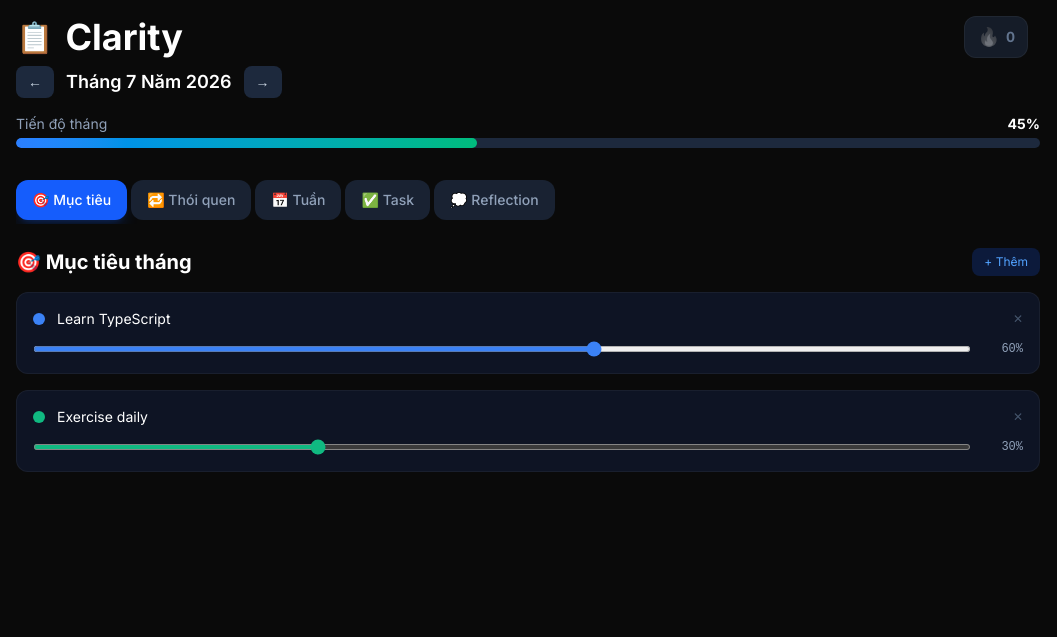
it: ClarityClient › switches to daily tasks tab
This screenshot has width=1057, height=637.
Check: the heading "Clarity" is shown, box [65, 17, 183, 57]
Click the text "✅ Task" at (388, 200), box [362, 191, 414, 208]
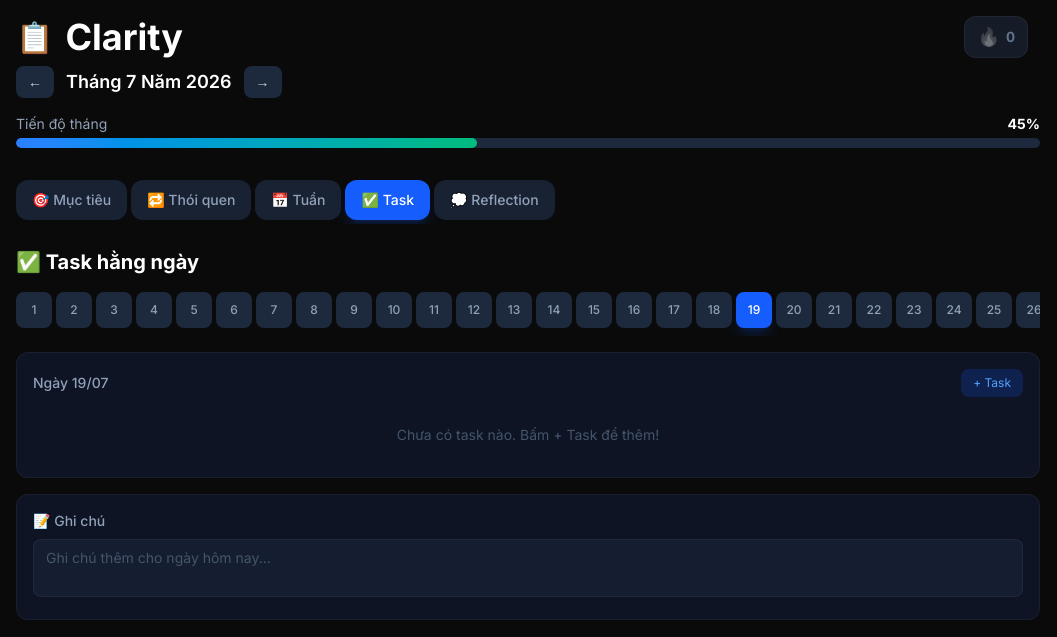
Check: the heading "✅ Task hằng ngày" is shown, box [16, 250, 199, 274]
Check: the button "+ Task" is shown, box [961, 369, 1023, 397]
